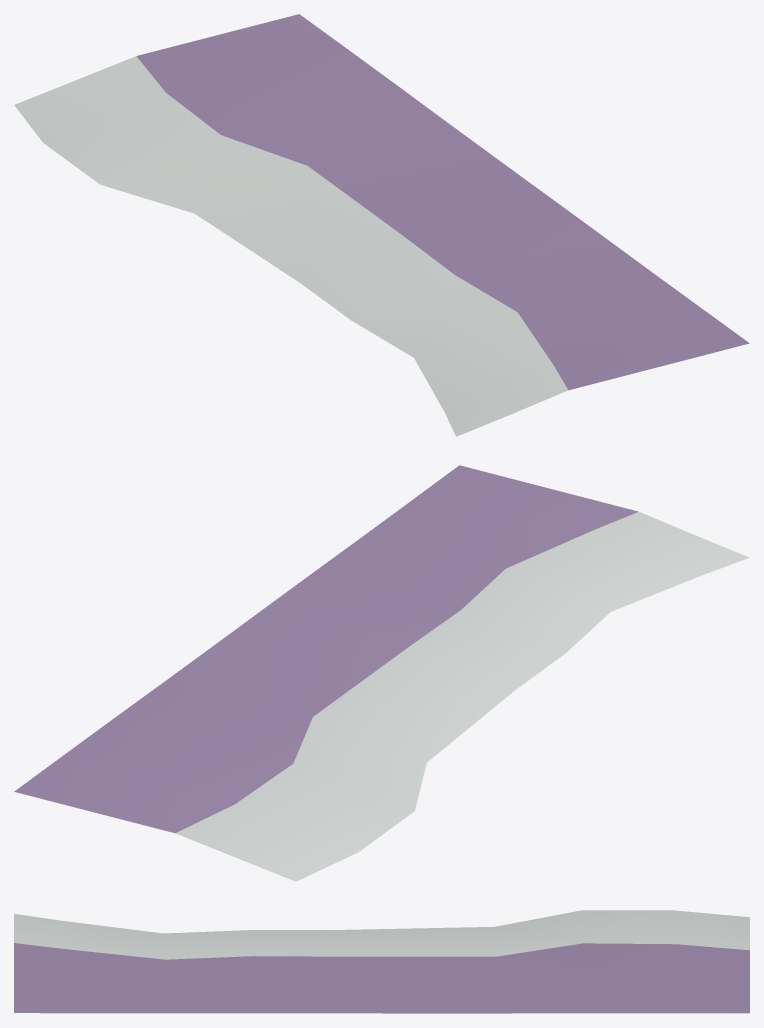
The picture shows the model from 3 angles, top to bottom: view 1: azimuth 30°, elevation 25°; view 2: azimuth 150°, elevation 25°; view 3: azimuth 270°, elevation 25°; orthographic projection. The views are drawn at different scales.
Parts seen in each view (by area): view 1: G:\FFXIV-MapTools\exports\m5f1\bg\ex4\02_mid_m5\fld\m5f1\bgp (×2); view 2: G:\FFXIV-MapTools\exports\m5f1\bg\ex4\02_mid_m5\fld\m5f1\bgp (×2); view 3: G:\FFXIV-MapTools\exports\m5f1\bg\ex4\02_mid_m5\fld\m5f1\bgp (×2).
Boxes of the visible parts, left/top/right/bottom form: G:\FFXIV-MapTools\exports\m5f1\bg\ex4\02_mid_m5\fld\m5f1\bgp (×2): left=14, top=14, right=749, bottom=436; G:\FFXIV-MapTools\exports\m5f1\bg\ex4\02_mid_m5\fld\m5f1\bgp (×2): left=14, top=465, right=749, bottom=881; G:\FFXIV-MapTools\exports\m5f1\bg\ex4\02_mid_m5\fld\m5f1\bgp (×2): left=14, top=910, right=749, bottom=1013.
Size of the model in its own units: 49.57 by 3.42 by 128.
